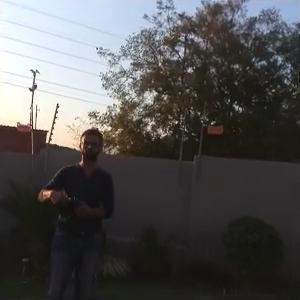follow: (35, 123, 117, 298)
